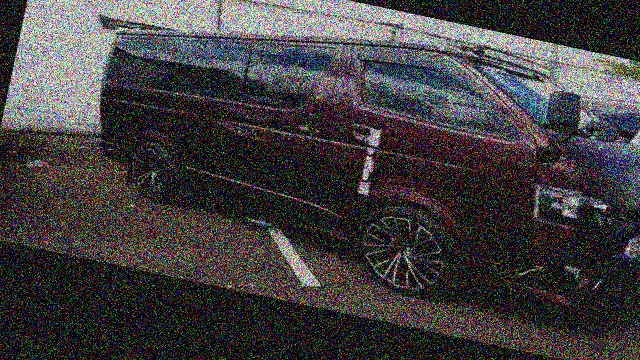van: (74, 0, 640, 322)
